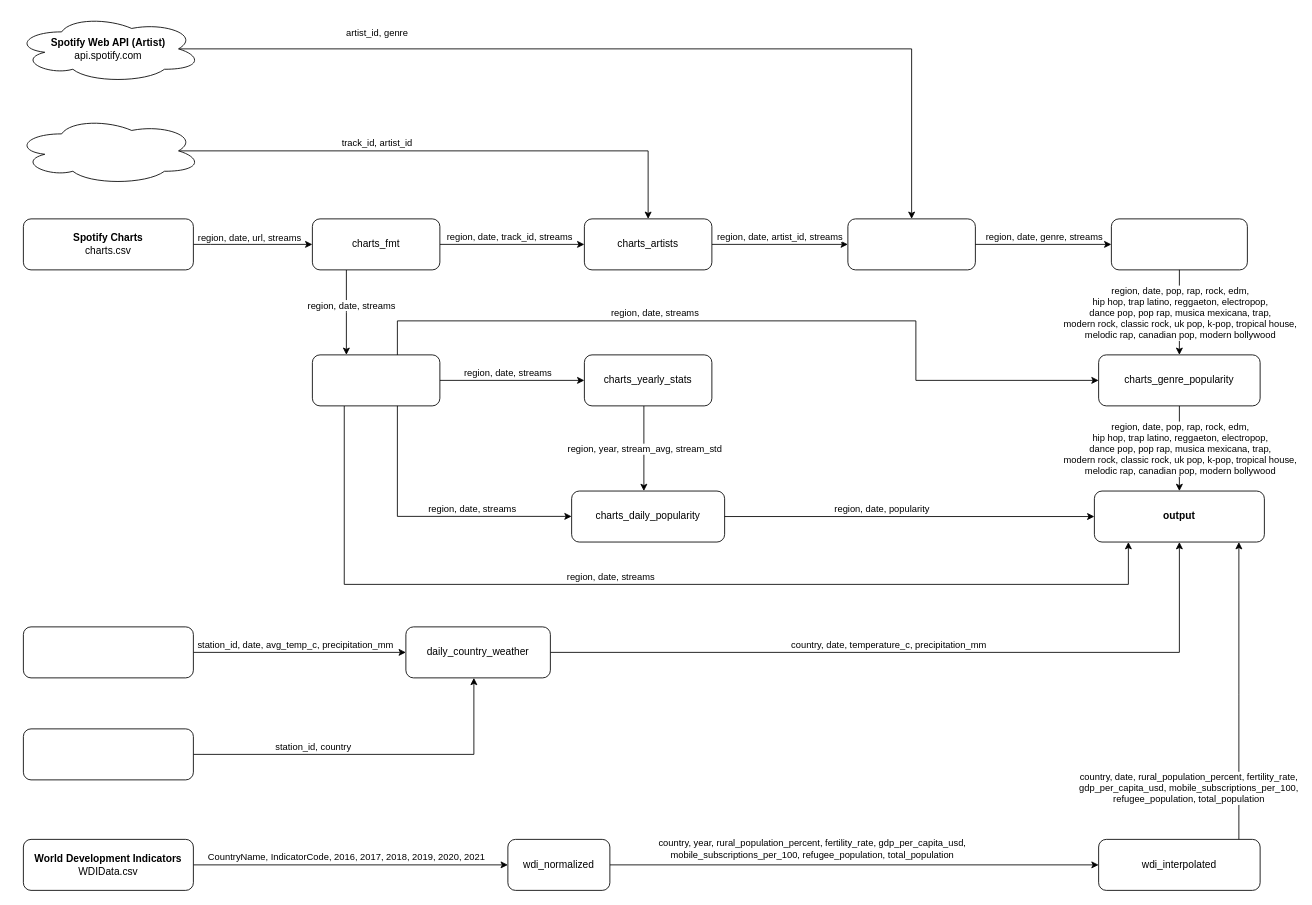
The diagram is 1312 pixels wide and 905 high, and some of its shapes have lost their labels. The centre of each missing label's shape, as x and y in pixels:
"charts_daily_genres" belongs at (x=1179, y=244).
"charts_daily_sum" belongs at (x=376, y=380).
"charts_genres" belongs at (x=911, y=244).
"Spotify Web API (Track) api.spotify.com" belongs at (x=108, y=150).
"The Weather Dataset (Cities) cities.csv" belongs at (x=108, y=754).
"The Weather Dataset (Weather) daily_weather.parquet" belongs at (x=108, y=652).
